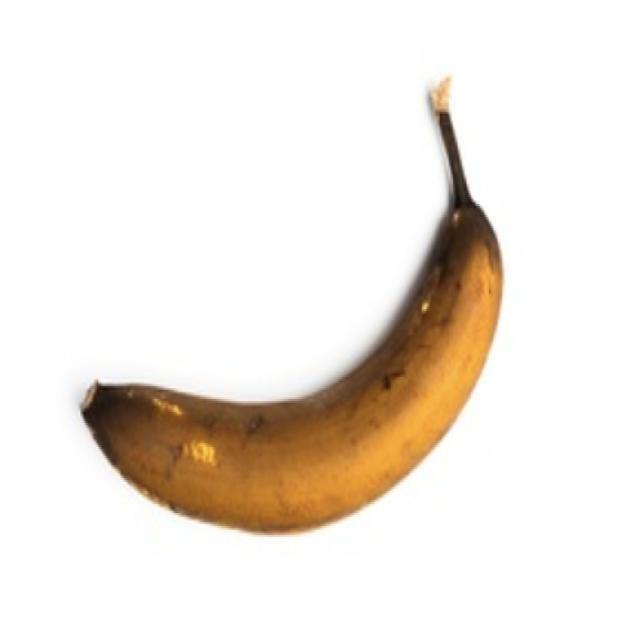rotten-banana: (78, 72, 504, 535)
